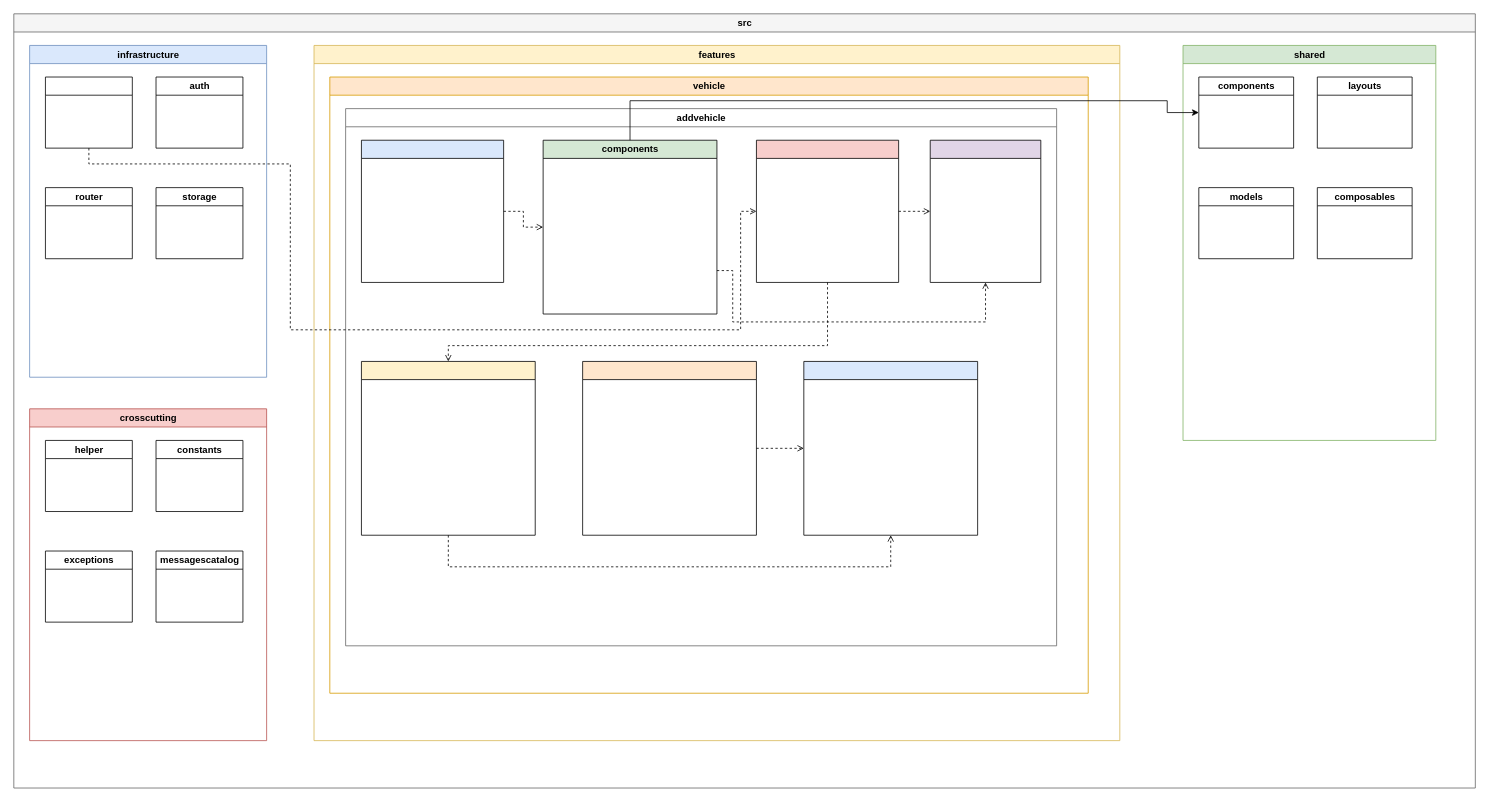
The diagram is 1489 pixels wide and 802 high, and some of its shapes have lost their labels. The shapes that lost their labels are listed below. From the top down, each one's centre as x and y in pixels, then its label:
the point at 88,112: api
the point at 432,210: views
the point at 827,210: services
the point at 985,210: store
the point at 448,448: dto
the point at 669,448: domain
the point at 890,448: mapper
